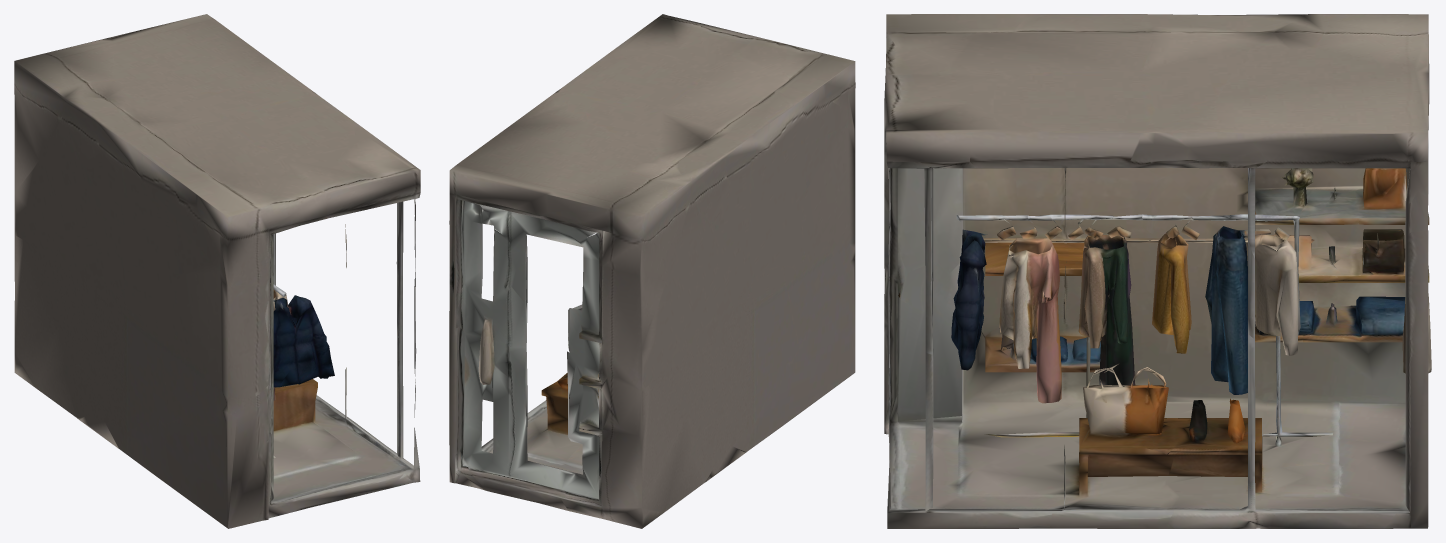
File: frontclv_lod1.glb
3 renders of one model, left to right at view 1: azimuth 30°, elevation 25°; view 2: azimuth 150°, elevation 25°; view 3: azimuth 270°, elevation 25°, orthographic. The views are drawn at different scales.
Parts seen in each view (by area): view 1: tripo_node_1101fbf4-2962-4fb8-ab8f-bee9e8e9e34c; view 2: tripo_node_1101fbf4-2962-4fb8-ab8f-bee9e8e9e34c; view 3: tripo_node_1101fbf4-2962-4fb8-ab8f-bee9e8e9e34c.
Boxes of the visible parts, <box> form: tripo_node_1101fbf4-2962-4fb8-ab8f-bee9e8e9e34c: <box>14,14,420,528</box>; tripo_node_1101fbf4-2962-4fb8-ab8f-bee9e8e9e34c: <box>449,14,855,528</box>; tripo_node_1101fbf4-2962-4fb8-ab8f-bee9e8e9e34c: <box>884,14,1431,528</box>.
Size of the model in its own units: 1.36 by 2.1 by 2.63.
Materials: 1 (1 with a texture image).
